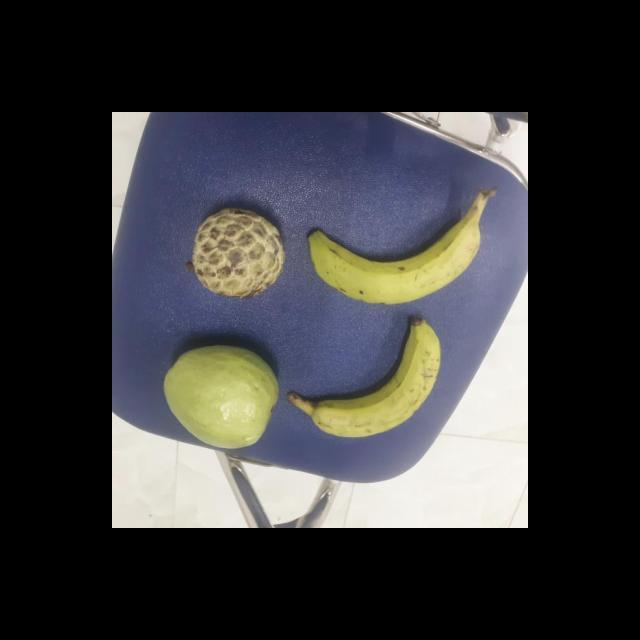Sakya fruit: (183, 208, 284, 298)
banana: (281, 318, 443, 438), (300, 202, 480, 306)
guava: (162, 342, 277, 452)
